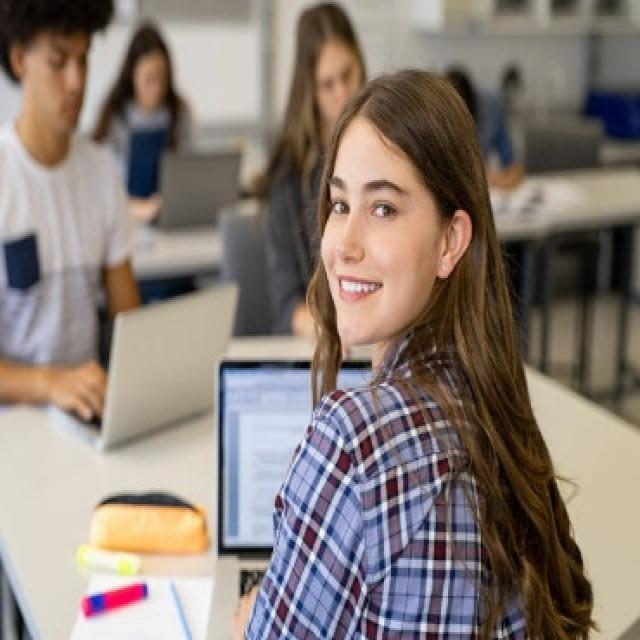adult: (218, 66, 526, 640), (0, 0, 125, 408)
